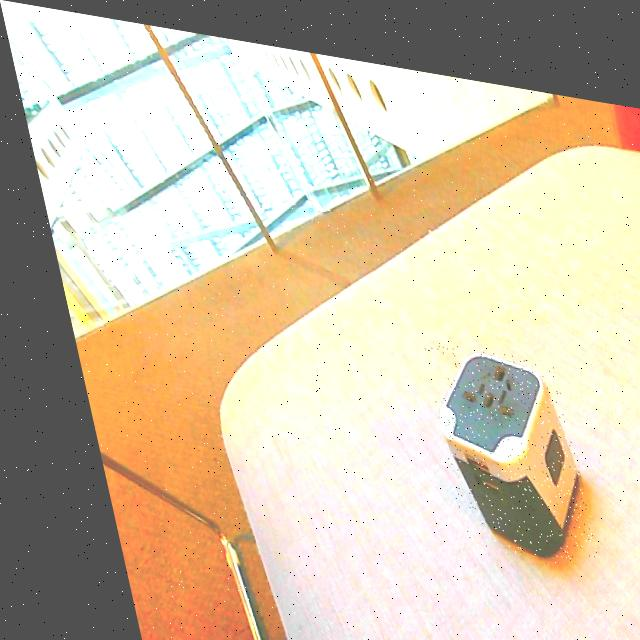adapter: (409, 327, 579, 549)
